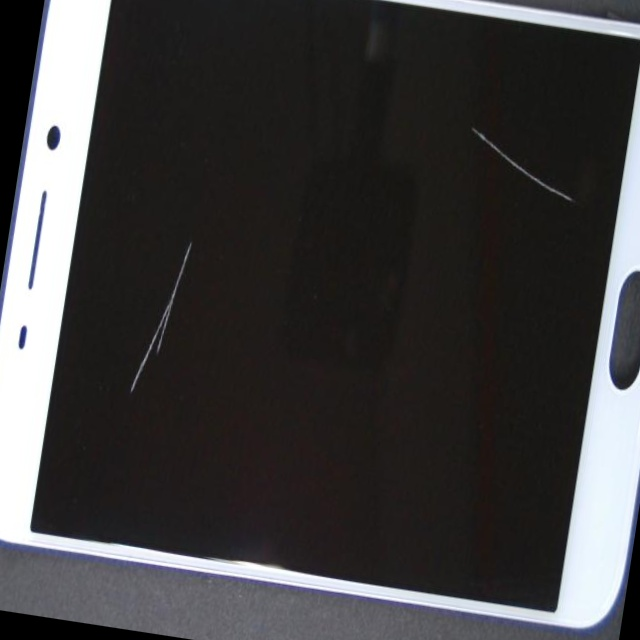scratch: (100, 58, 319, 380), (357, 81, 640, 276)
